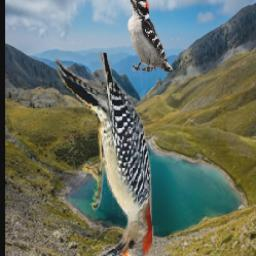Woodpecker: (52, 53, 167, 256), (127, 0, 174, 72)
